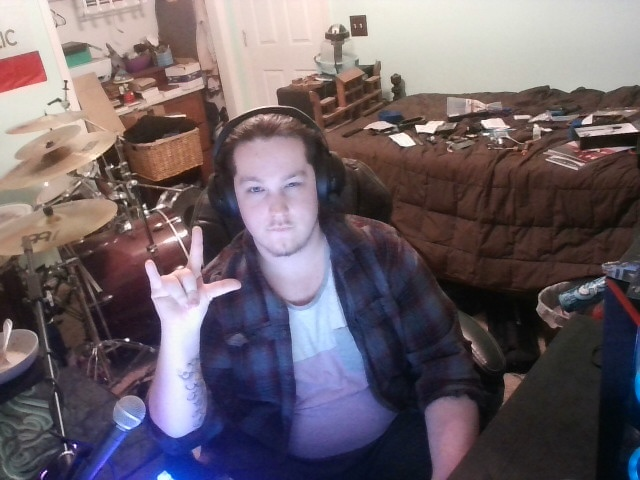i_love_you: (121, 216, 252, 334)
